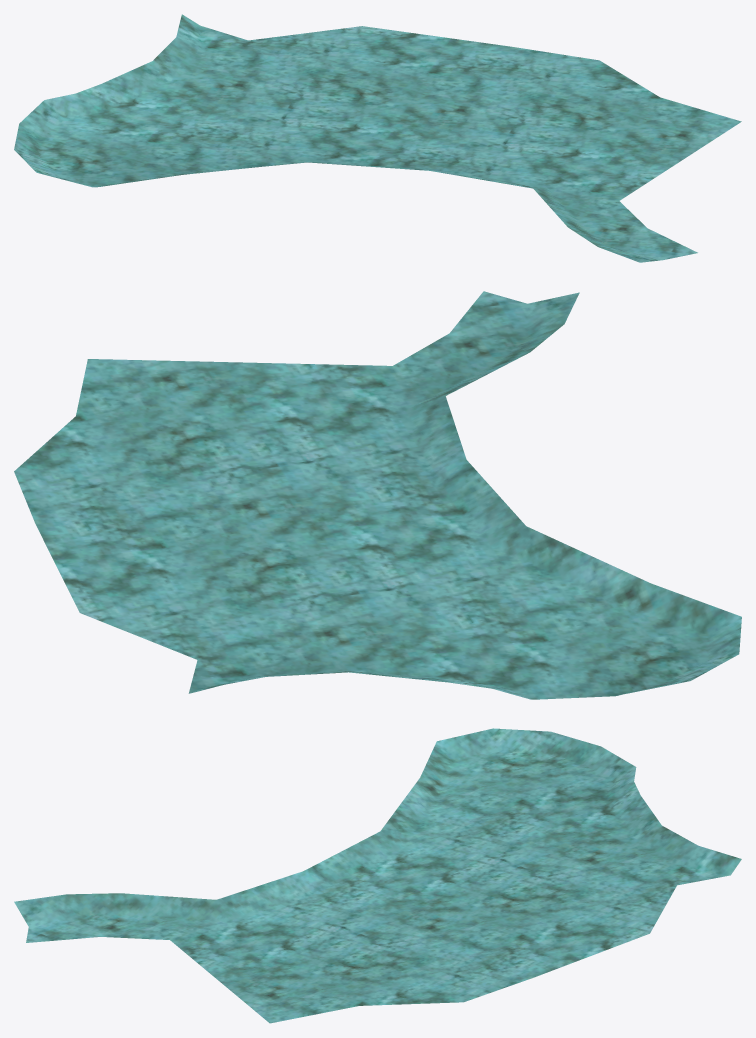
Rendered from EKH_CAVERNS_PS_CA_SMALL_LAKE_FLOOR383.fbx.
3 views of the same model, one above another, from view 1: azimuth 30°, elevation 25°; view 2: azimuth 150°, elevation 25°; view 3: azimuth 270°, elevation 25° (orthographic). The views are drawn at different scales.
Visible parts, largest first — view 1: EKH_CAVERNS_PS_CA_SMALL_LAKE_FLOOR383; view 2: EKH_CAVERNS_PS_CA_SMALL_LAKE_FLOOR383; view 3: EKH_CAVERNS_PS_CA_SMALL_LAKE_FLOOR383.
Boxes of the visible parts, box(x1,y1,x2,y2) form: EKH_CAVERNS_PS_CA_SMALL_LAKE_FLOOR383: box(14, 14, 741, 262); EKH_CAVERNS_PS_CA_SMALL_LAKE_FLOOR383: box(14, 291, 741, 699); EKH_CAVERNS_PS_CA_SMALL_LAKE_FLOOR383: box(14, 728, 741, 1023).
Bounding box in the file's own units: 149089 × 2500 × 161044.
Materials: 1 (1 with a texture image).
